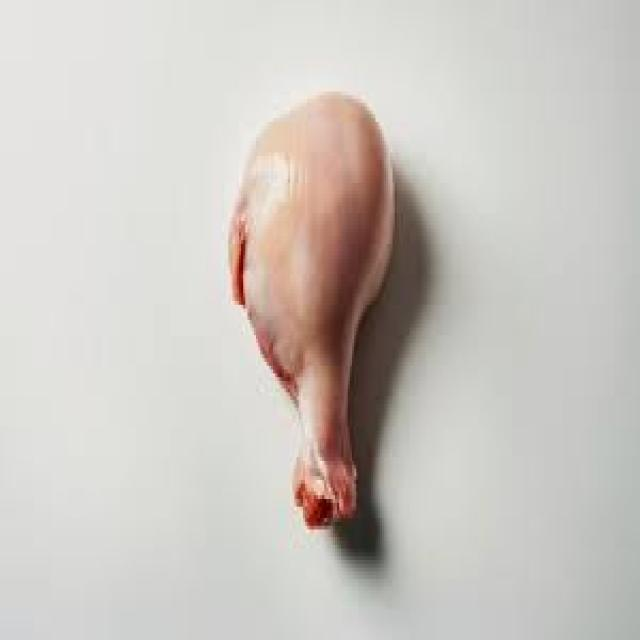leg: (229, 80, 399, 546)
